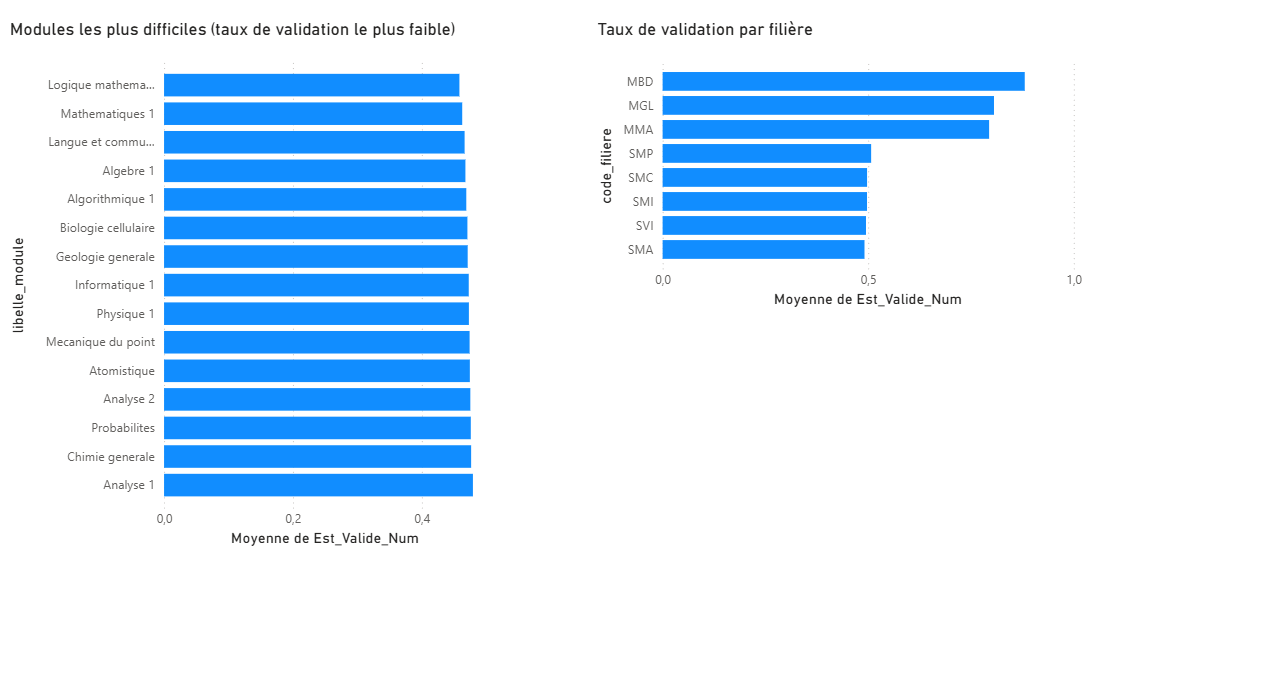

The page's visual inventory and layout, read from the dashboard file:
{"tool":"powerbi","page":{"name":"Performance","canvas":[1280,720],"ordinal":2},"visuals":[{"type":"clusteredBarChart","title":"Modules les plus difficiles (taux de validation le plus faible)","fields":{"Category":["dim_module.libelle_module"],"Y":["Avg(fait_resultat_module.Est_Valide_Num)"]},"box":[10,30,484,522],"z":0},{"type":"clusteredBarChart","title":"Taux de validation par filière","fields":{"Category":["dim_module.code_filiere"],"Y":["Avg(fait_resultat_module.Est_Valide_Num)"]},"box":[584,30,484,288],"z":1000}]}

Visuals, with their boxes in screenshot pixels (x1, y1, x2, y2), scaled from the page's 1280x720 canvas onto the 1272x697 screenshot:
"Modules les plus difficiles (taux de validation le plus faible)" clusteredBarChart: <box>10,29,491,534</box>
"Taux de validation par filière" clusteredBarChart: <box>580,29,1061,308</box>
